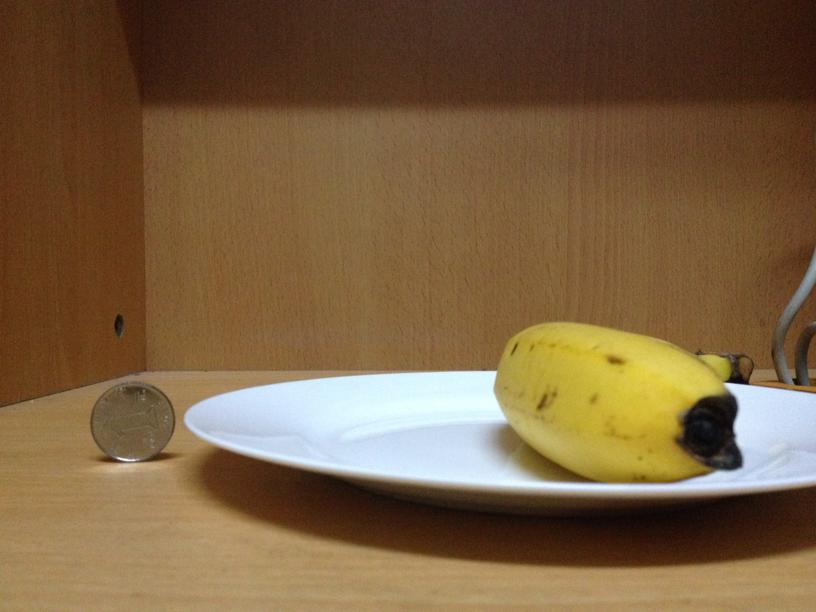banana: (490, 325, 751, 481)
coin: (88, 381, 178, 465)
